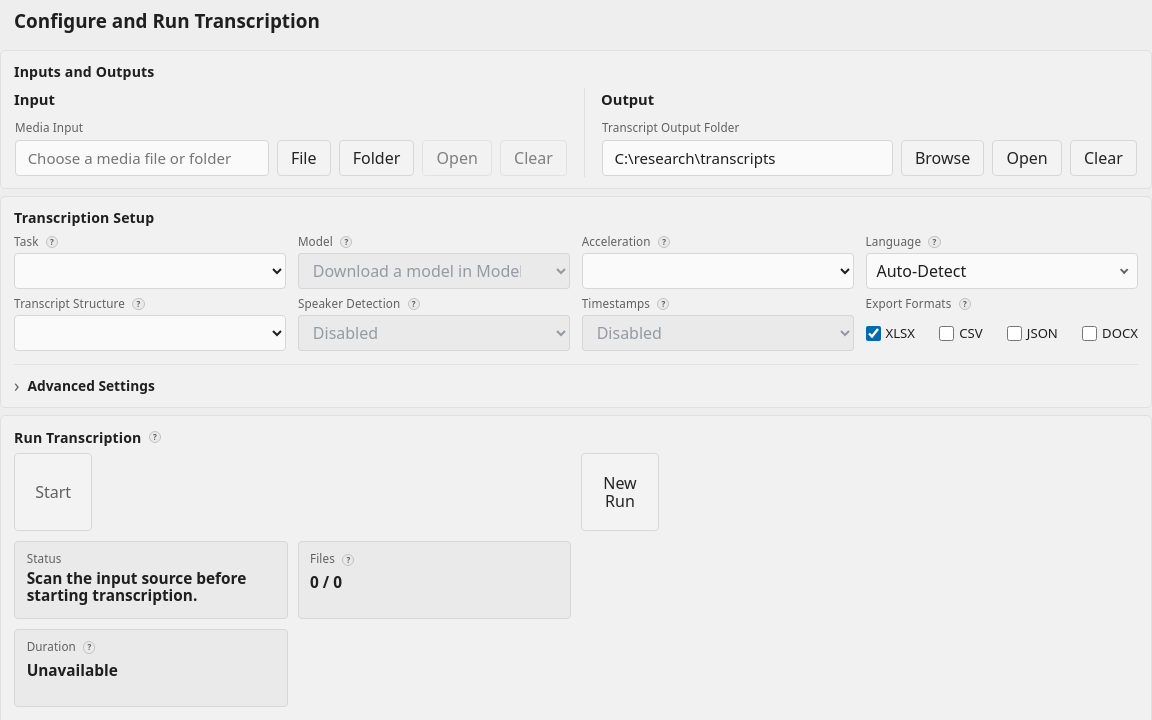
Test: Transcription Inputs and Outputs › hides transcript-file organization until an input folder is selected
Click the button "Folder" at (376, 158), box [339,140,414,176]
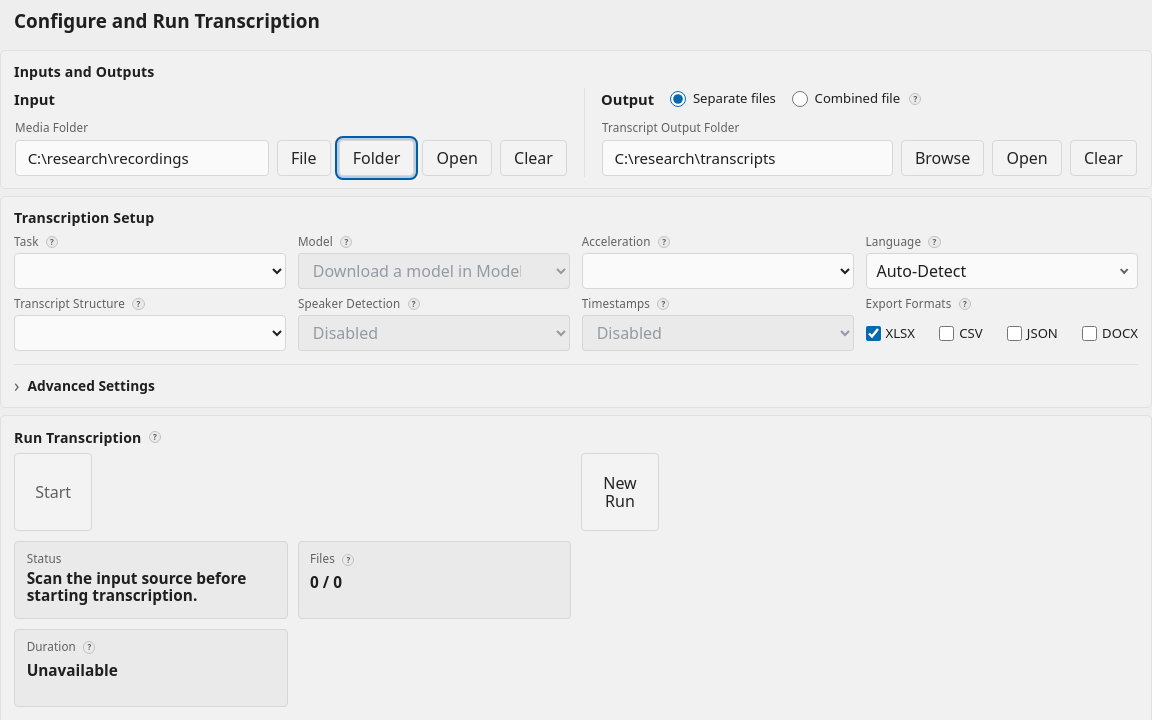
Result: the element named "Transcript Files" is shown at [670,89,900,109]
Result: the radio button labelled "Separate files" is checked at [670,91,686,107]
